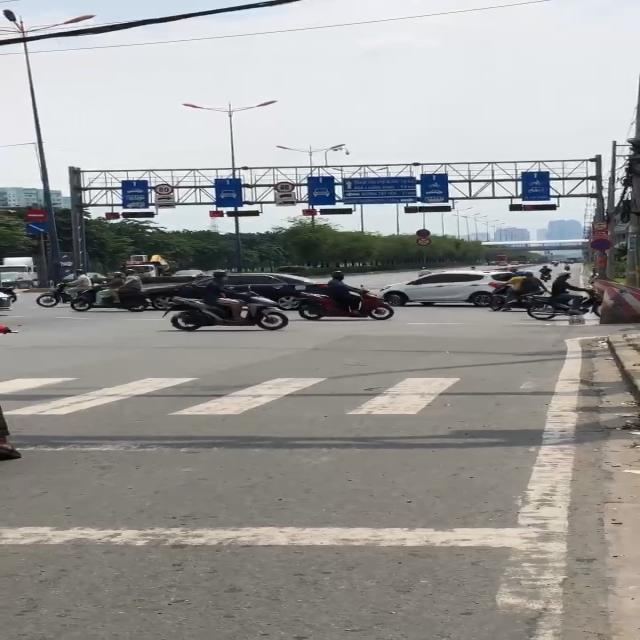Bien bao cam di nguoc chieu: (23, 208, 52, 224)
Bien bao huong phai di vong chuong ngai vat: (23, 222, 51, 235)
Bien bao toc do toi da cho phep: (152, 182, 177, 195)
